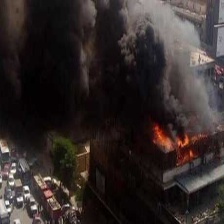fire: (151, 125, 203, 165)
smoke: (1, 1, 218, 128)
